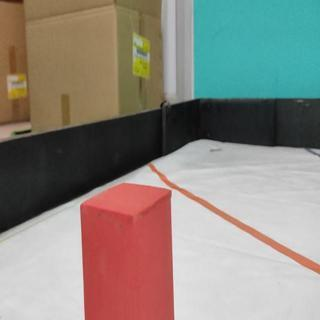redbox: (79, 181, 174, 320)
